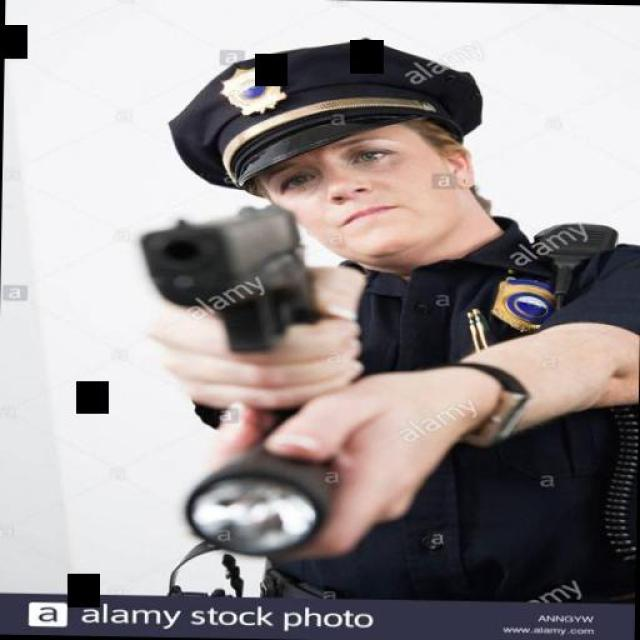gun: (130, 193, 322, 355)
